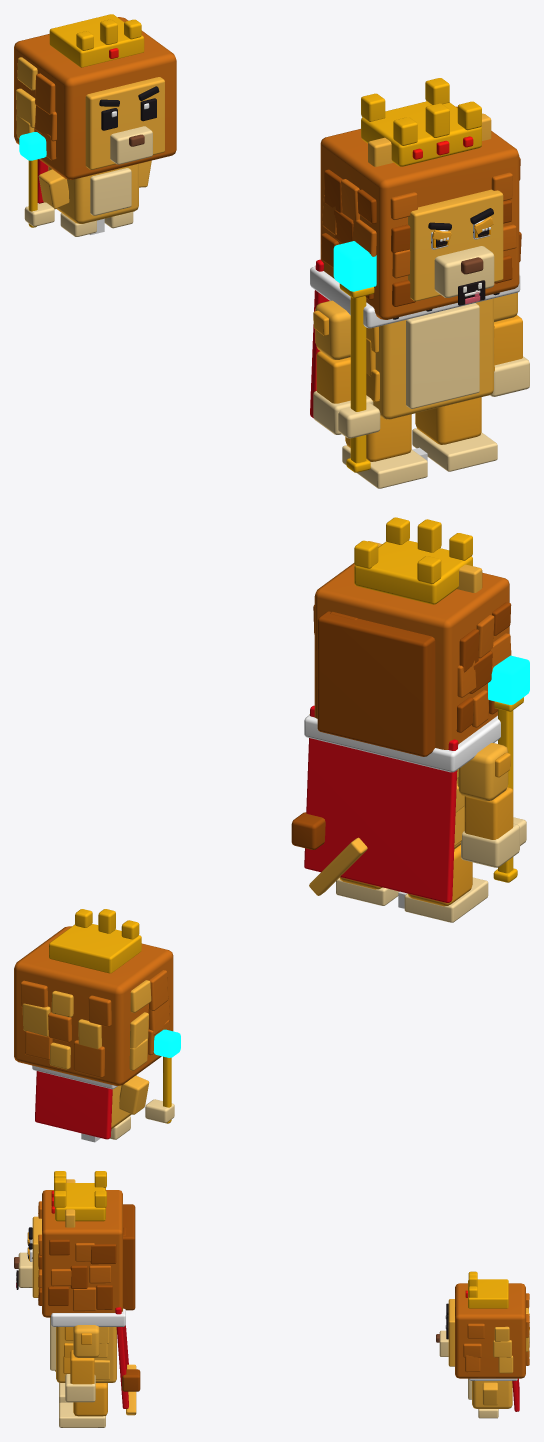
Rendered from Restyle_B07.fbx.
The picture shows the model from 3 angles, top to bottom: view 1: azimuth 30°, elevation 25°; view 2: azimuth 150°, elevation 25°; view 3: azimuth 270°, elevation 25°; orthographic projection. The views are drawn at different scales.
Parts seen in each view (by area): view 1: B07__Head, P07__Head, B07__Body_Light, B07__Head_Fur, B07__Head_Gold, P07__Head_Fur, B07__Body, B07__Head_ManeDark, P07__Head_Gold, P07__Body_Light, P07__Body, B07__RightHand_Gold (+18 smaller); view 2: B07__Body_Cape, B07__Head_ManeDark, P07__Head, B07__Head, B07__Head_Gold, P07__Head_Gold, P07__Body_Cape, P07__Head_Fur, B07__Body_Ermine, B07__RightUpperArm, B07__RightLowerArm, B07__RightHand (+9 smaller); view 3: B07__Head, P07__Head, B07__Head_ManeDark, B07__Head_Gold, B07__Body, P07__Head_Fur, P07__Head_Gold, P07__Body, B07__Body_Ermine, B07__Head_Fur, B07__LeftLeg_Light, B07__LeftLeg (+7 smaller).
Boxes of the visible parts, x1,y1,x2,y2 form: B07__Head: [320, 106, 519, 319]; P07__Head: [14, 17, 176, 179]; B07__Body_Light: [406, 303, 479, 408]; B07__Head_Fur: [368, 113, 503, 301]; B07__Head_Gold: [361, 78, 481, 166]; P07__Head_Fur: [16, 57, 164, 169]; B07__Body: [373, 298, 493, 419]; B07__Head_ManeDark: [321, 157, 521, 306]; P07__Head_Gold: [49, 14, 144, 67]; P07__Body_Light: [24, 168, 133, 236]; P07__Body: [38, 160, 151, 223]; B07__RightHand_Gold: [339, 283, 374, 472]; B07__Body_Cape: [304, 705, 458, 902]; B07__Head_ManeDark: [313, 602, 511, 756]; P07__Head: [14, 926, 173, 1085]; B07__Head: [314, 563, 511, 749]; B07__Head_Gold: [354, 517, 472, 604]; P07__Head_Gold: [49, 909, 141, 973]; P07__Body_Cape: [35, 1071, 112, 1139]; P07__Head_Fur: [22, 980, 151, 1070]; B07__Body_Ermine: [304, 715, 500, 772]; B07__RightUpperArm: [457, 743, 508, 801]; B07__RightLowerArm: [464, 787, 513, 839]; B07__RightHand: [461, 817, 526, 867]; B07__Head: [38, 1190, 122, 1317]; P07__Head: [455, 1283, 529, 1378]; B07__Head_ManeDark: [38, 1204, 135, 1310]; B07__Head_Gold: [54, 1171, 106, 1221]; B07__Body: [56, 1327, 136, 1415]; P07__Head_Fur: [448, 1299, 529, 1373]; P07__Head_Gold: [468, 1271, 508, 1308]; P07__Body: [472, 1381, 512, 1408]; B07__Body_Ermine: [51, 1308, 125, 1326]; B07__Head_Fur: [32, 1179, 75, 1297]; B07__LeftLeg_Light: [59, 1402, 105, 1427]; B07__LeftLeg: [73, 1383, 107, 1416].
Size of the model in its own units: 1410 by 2560 by 5085.
